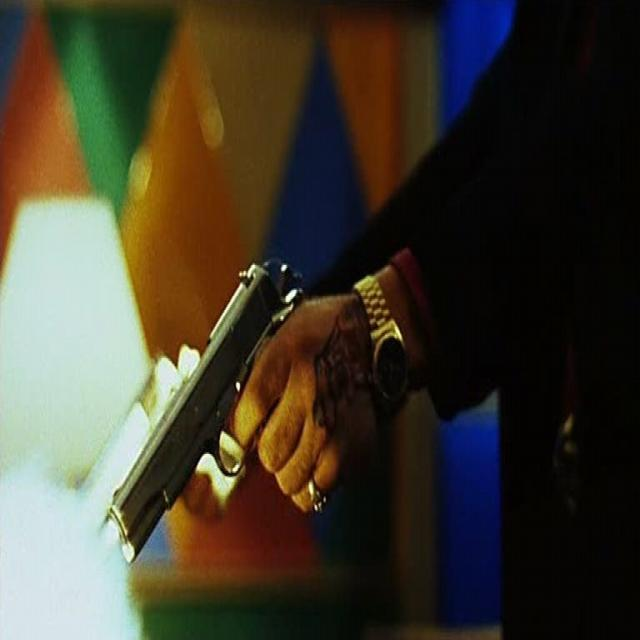gun-knife-thesis - v11 Yolov5 augmented: (81, 235, 423, 593)
